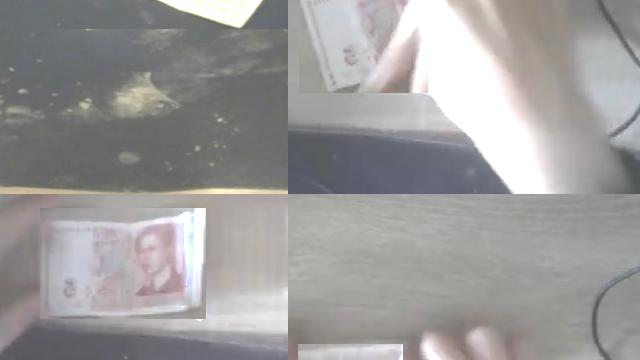5leva: (40, 208, 206, 319), (299, 0, 411, 93), (298, 344, 403, 360)
